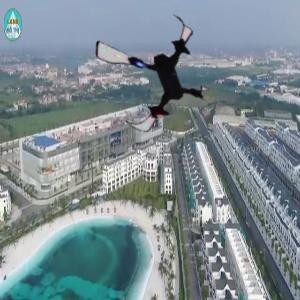drone: (90, 10, 217, 137)
